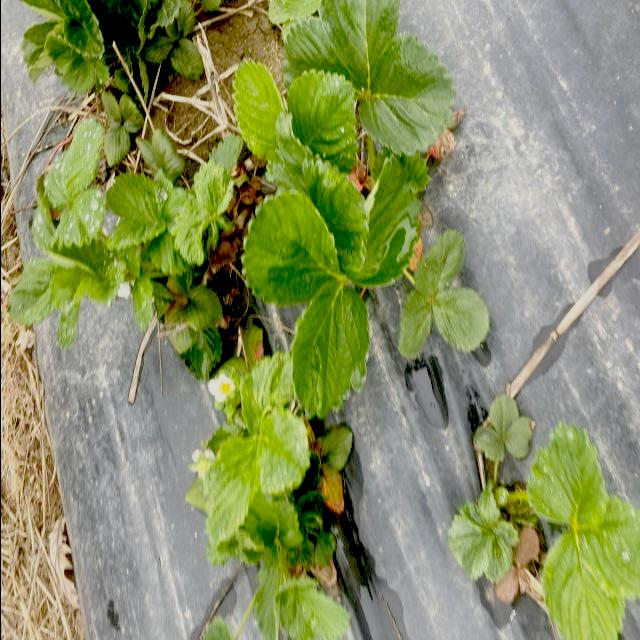flower: (204, 367, 243, 411), (114, 280, 134, 308)
